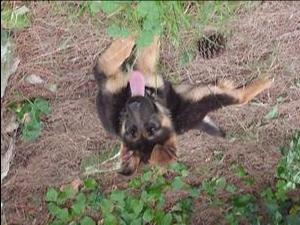dog: (92, 29, 274, 179)
